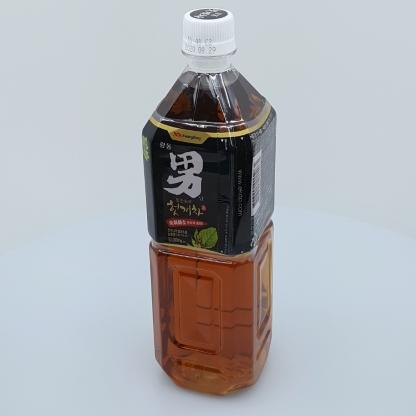----------1L: (141, 8, 277, 396)
